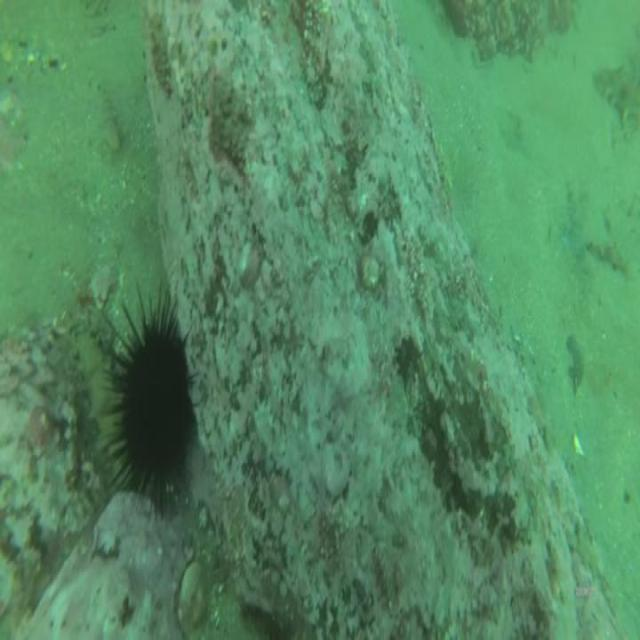echinus: (96, 283, 201, 526)
holothurian: (71, 312, 127, 484)
